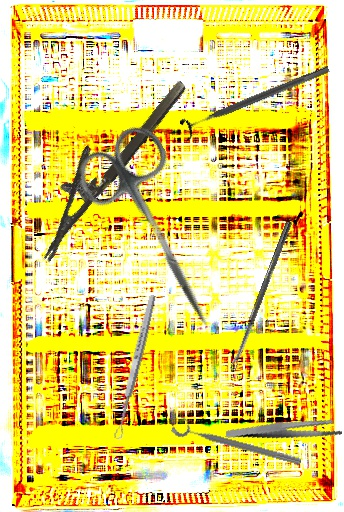Dressing Forceps: (225, 398, 344, 462)
Fixation Ring: (178, 58, 334, 142), (170, 413, 305, 469)
Iris Scissors: (67, 118, 250, 347)
Needle Holder: (14, 61, 190, 263)
Surgical Spoon: (228, 220, 293, 371), (112, 293, 158, 441)
